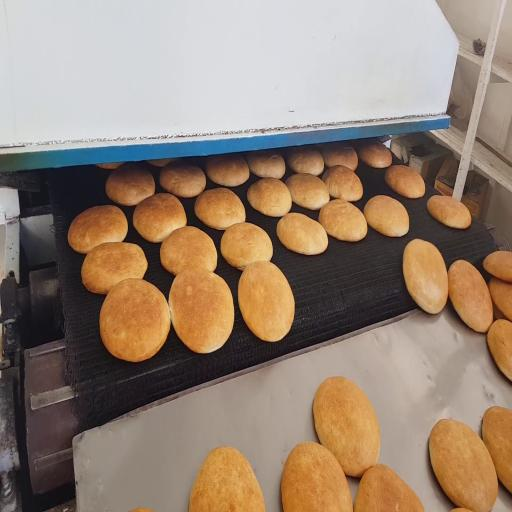bread: (313, 377, 380, 477), (429, 420, 498, 511), (100, 279, 170, 362), (169, 268, 234, 353), (281, 442, 352, 511), (189, 447, 265, 511), (238, 262, 294, 341), (82, 242, 147, 294), (403, 239, 448, 314), (448, 260, 493, 332), (354, 465, 424, 511), (68, 205, 127, 254), (160, 227, 217, 275), (133, 193, 186, 242), (482, 407, 511, 492), (221, 223, 273, 270), (277, 213, 328, 255), (106, 163, 155, 206), (195, 188, 245, 230), (319, 200, 367, 241), (364, 195, 409, 237), (247, 178, 291, 216), (160, 162, 206, 197), (286, 174, 329, 210), (487, 320, 511, 381), (322, 165, 362, 201), (205, 154, 250, 186), (427, 196, 471, 228), (385, 165, 425, 198), (246, 150, 285, 178), (287, 147, 324, 175), (320, 143, 358, 170), (357, 140, 392, 168), (489, 277, 511, 320), (484, 251, 511, 282), (492, 298, 506, 319), (147, 158, 179, 167), (493, 302, 506, 319), (97, 163, 122, 170), (452, 508, 469, 511), (132, 509, 150, 511)
